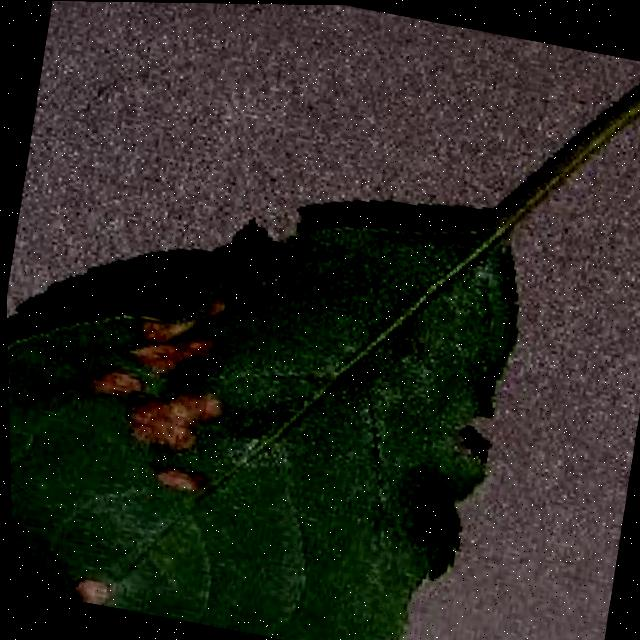black_rot: (125, 284, 243, 389), (123, 388, 222, 458), (68, 352, 151, 412), (140, 456, 216, 506), (8, 367, 32, 404)
